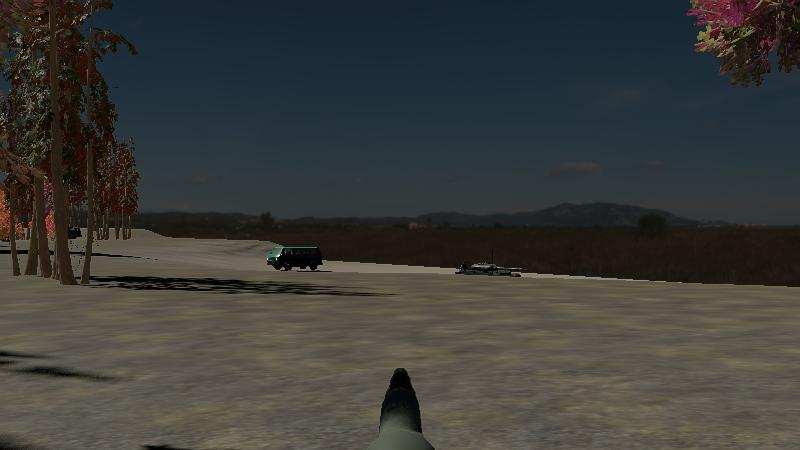Tank: (454, 257, 528, 283)
car: (264, 245, 325, 272)
